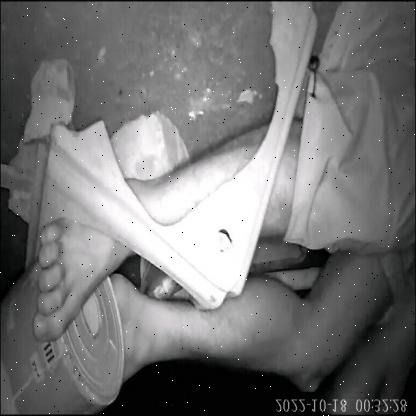leg: (109, 254, 384, 402), (27, 206, 130, 351)
